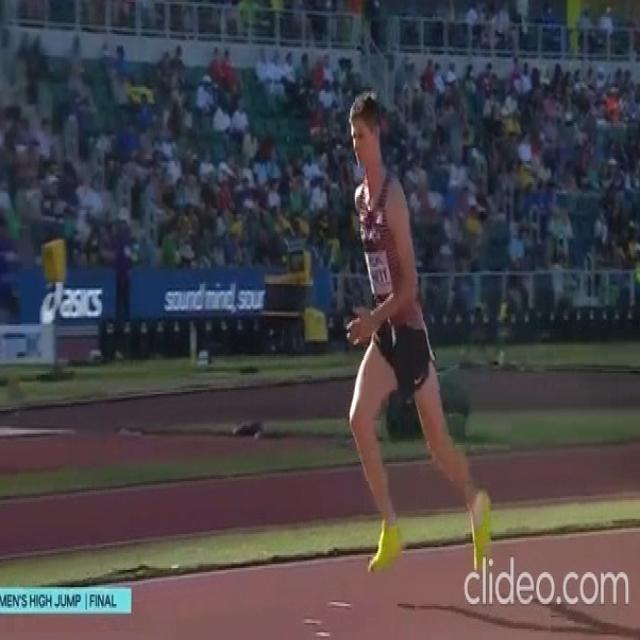run: (346, 85, 492, 573)
